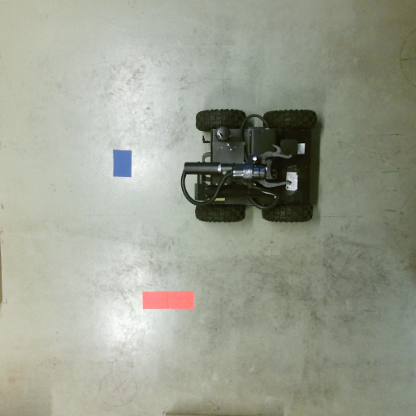Blue: (110, 149, 134, 178)
Jaguar: (178, 108, 317, 225)
Red: (140, 289, 196, 311)
